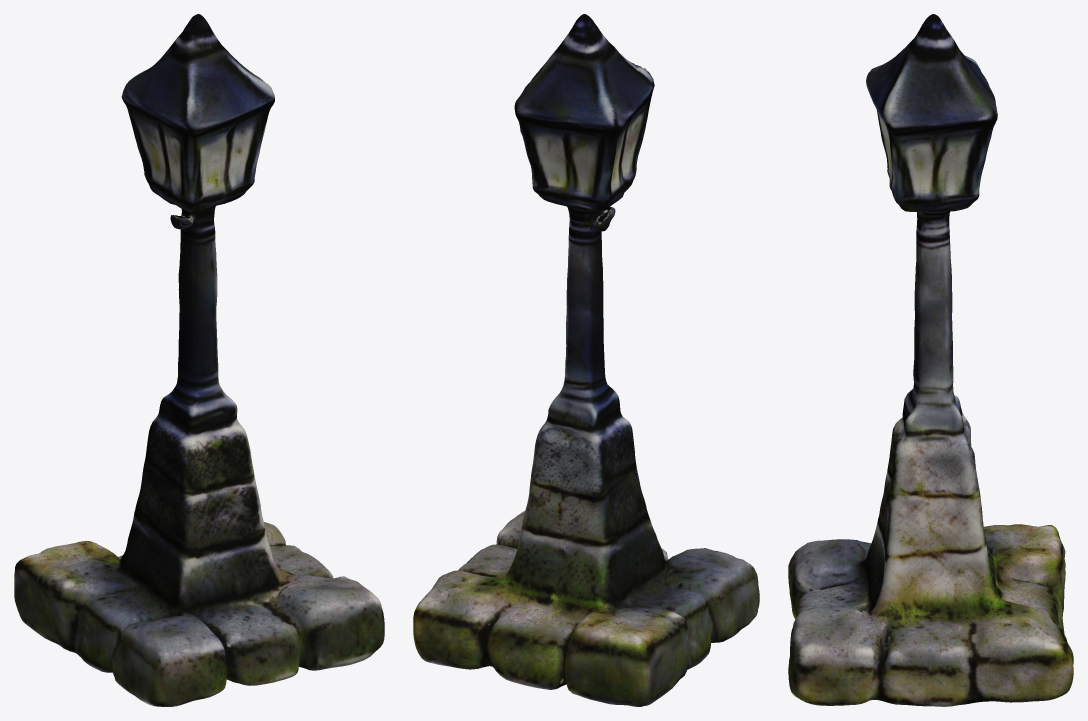
The model's file is aa8f9d8712ea_Medieval_street_lam.fbx.
3 views of the same model, side by side, from view 1: azimuth 30°, elevation 25°; view 2: azimuth 150°, elevation 25°; view 3: azimuth 270°, elevation 25° (orthographic).
Parts seen in each view (by area): view 1: mesh; view 2: mesh; view 3: mesh.
Part boxes in pixels (x1,y1,x2,y2): mesh: (14,14,384,706); mesh: (413,14,759,706); mesh: (788,14,1073,706).
Bounding box in the file's own units: 41.48 × 99.73 × 40.54.
